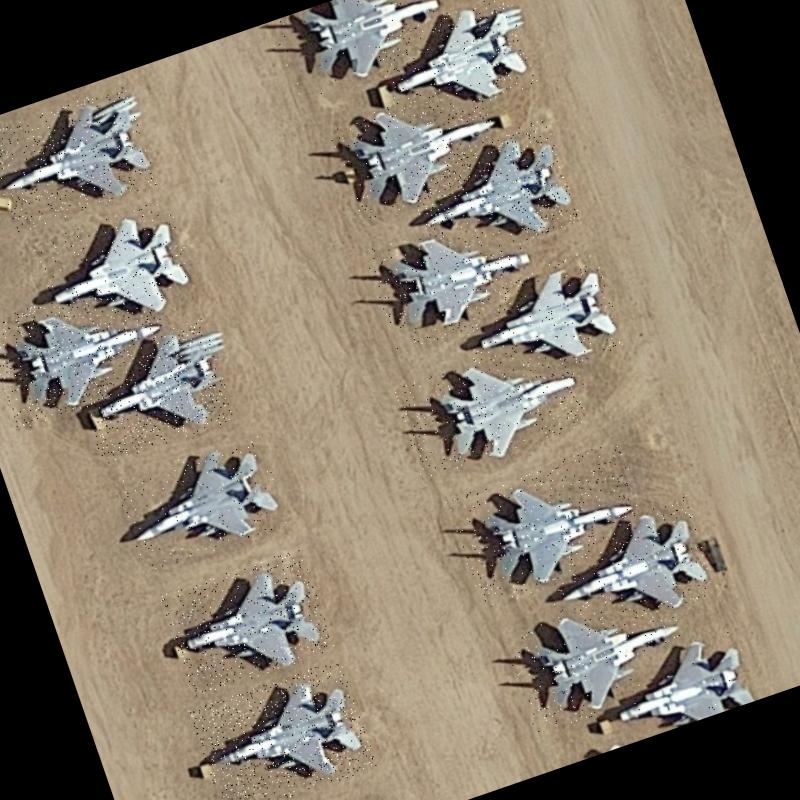A13: (445, 440, 658, 612), (501, 578, 698, 736), (392, 330, 596, 481), (0, 268, 179, 430), (442, 248, 628, 400), (532, 494, 720, 644), (403, 118, 582, 271), (364, 202, 544, 352), (188, 658, 378, 800), (327, 76, 509, 224), (160, 547, 336, 698), (112, 432, 290, 575), (69, 318, 237, 465), (0, 84, 158, 233), (32, 198, 199, 336), (371, 0, 539, 130), (590, 621, 758, 748), (270, 0, 456, 102)
